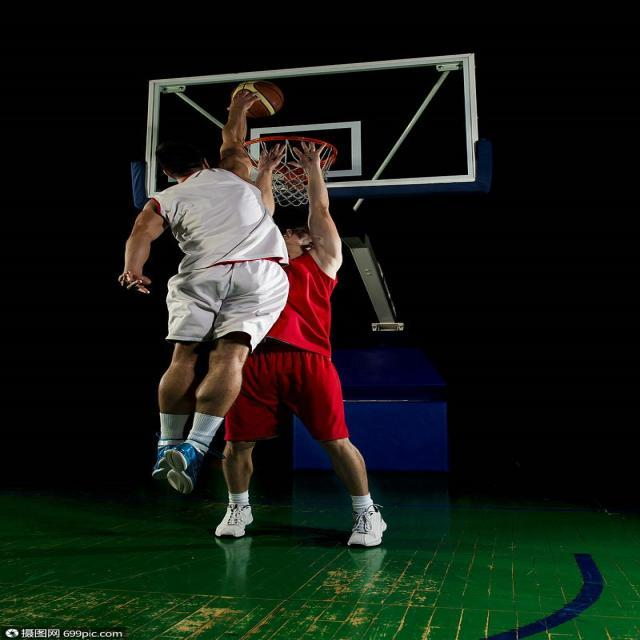rim: (228, 80, 282, 116)
